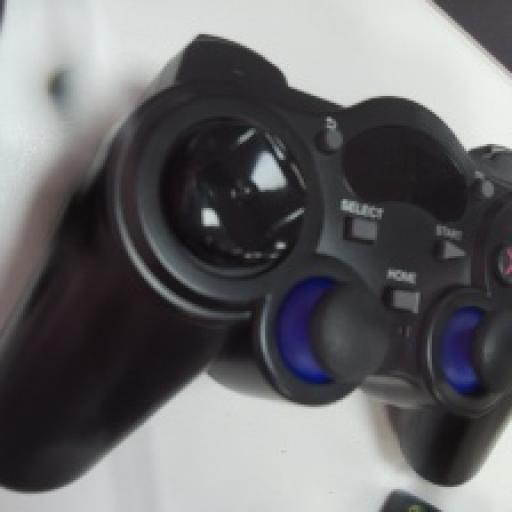game pad: (0, 37, 510, 489)
